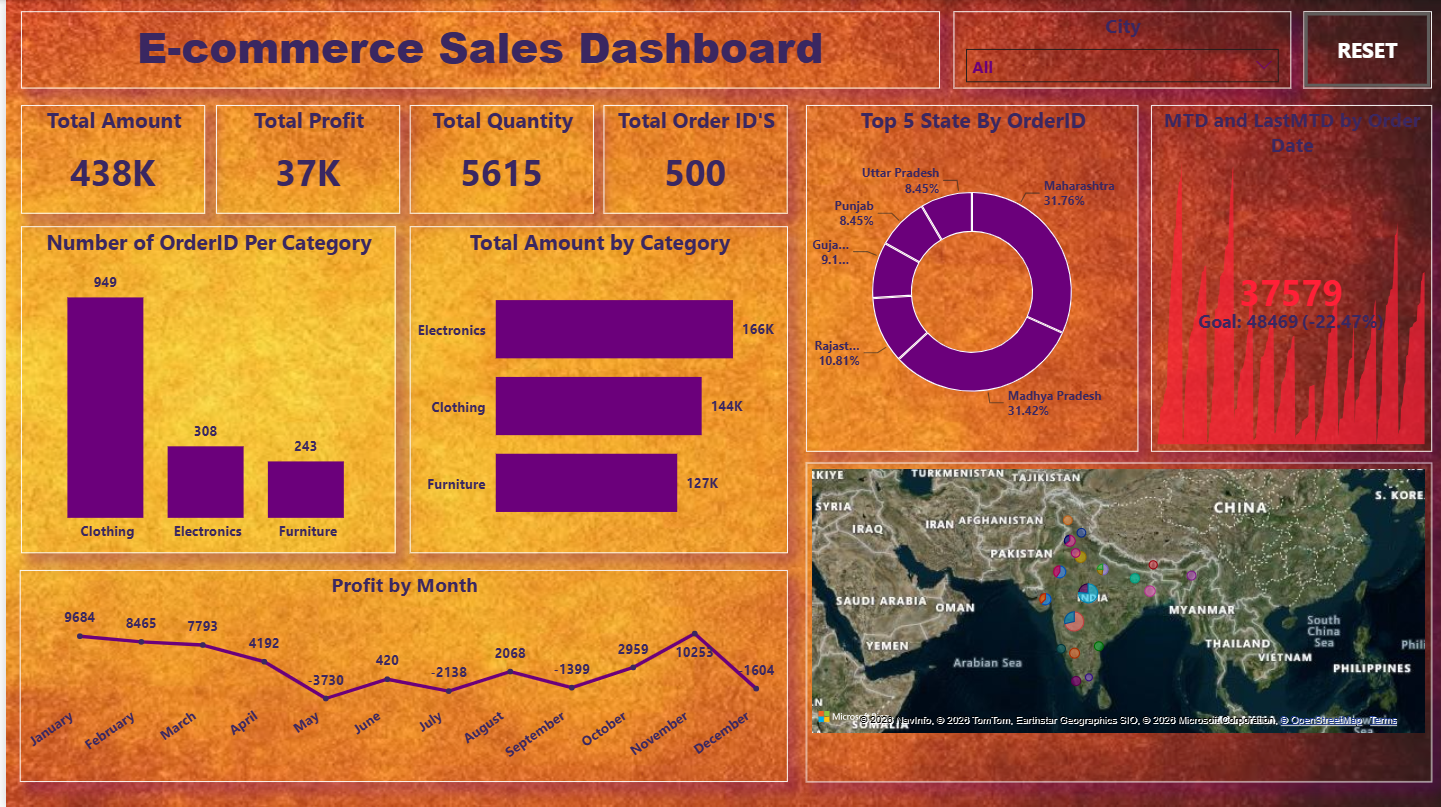

The page's visual inventory and layout, read from the dashboard file:
{"tool":"powerbi","page":{"name":"Page 1","canvas":[1280,720],"ordinal":0},"visuals":[{"type":"textbox","box":[13.5,9.8,818.4,68.7],"z":0},{"type":"card","title":"Total Amount","fields":{"Values":["Sum(Details.Amount)"]},"box":[13.7,93.3,164.2,97],"z":1000},{"type":"card","title":"Total Profit","fields":{"Values":["Sum(Details.Profit)"]},"box":[186.6,93.3,164.2,97],"z":2000},{"type":"card","title":"Total Quantity","fields":{"Values":["Sum(Details.Quantity)"]},"box":[359.5,93.3,164.2,97],"z":3000},{"type":"card","title":"Total Order ID''S","fields":{"Values":["CountNonNull(Orders (1).Order ID)"]},"box":[532.4,93.3,164.2,97],"z":4000},{"type":"columnChart","title":"Number  of OrderID  Per Category","fields":{"Category":["Details.Category"],"Y":["CountNonNull(Details.Order ID)"]},"box":[13.7,201.5,333.4,291.1],"z":5000},{"type":"lineChart","title":"Profit by Month","fields":{"Category":["Orders (1).Order Date.Variation.Date Hierarchy.Month"],"Y":["Sum(Details.Profit)"]},"box":[12.4,507.5,684.2,189.1],"z":6000},{"type":"donutChart","title":"Top 5 State By OrderID","fields":{"Category":["Orders (1).State"],"Y":["CountNonNull(Orders (1).Order ID)"]},"box":[712.2,93.3,296.4,308.7],"z":7000},{"type":"clusteredBarChart","title":"Total Amount by Category","fields":{"Category":["Details.Category"],"Y":["Sum(Details.Amount)"]},"box":[359.5,201.5,337.1,291.1],"z":8000},{"type":"map","fields":{"Category":["Orders (1).State"],"Size":["CountNonNull(Orders (1).Order ID)"],"Series":["Orders (1).City"]},"box":[712.8,411.8,557.3,284.9],"z":9000},{"type":"kpi","fields":{"Indicator":["Details.MTD"],"TrendLine":["Orders (1).Order Date"],"Goal":["Details.LastMTD"]},"box":[1020,93.3,250,308.5],"z":10000},{"type":"slicer","title":"City","fields":{"Values":["Orders (1).City"]},"box":[844.2,9.8,300.6,68.7],"z":11000},{"type":"actionButton","box":[1155.8,9.8,114.1,68.7],"z":12000}]}

Visuals, with their boxes in screenshot pixels (x1, y1, x2, y2), scaled from the page's 1280x720 canvas onto the 1441x807 screenshot:
textbox: BBox(15, 11, 937, 88)
"Total Amount" card: BBox(15, 105, 200, 213)
"Total Profit" card: BBox(210, 105, 395, 213)
"Total Quantity" card: BBox(405, 105, 590, 213)
"Total Order ID''S" card: BBox(599, 105, 784, 213)
"Number  of OrderID  Per Category" columnChart: BBox(15, 226, 391, 552)
"Profit by Month" lineChart: BBox(14, 569, 784, 781)
"Top 5 State By OrderID" donutChart: BBox(802, 105, 1135, 451)
"Total Amount by Category" clusteredBarChart: BBox(405, 226, 784, 552)
map - Orders (1).State x CountNonNull(Orders (1).Order ID): BBox(802, 462, 1430, 781)
kpi - Details.MTD x Orders (1).Order Date: BBox(1148, 105, 1430, 450)
"City" slicer: BBox(950, 11, 1289, 88)
actionButton: BBox(1301, 11, 1430, 88)
